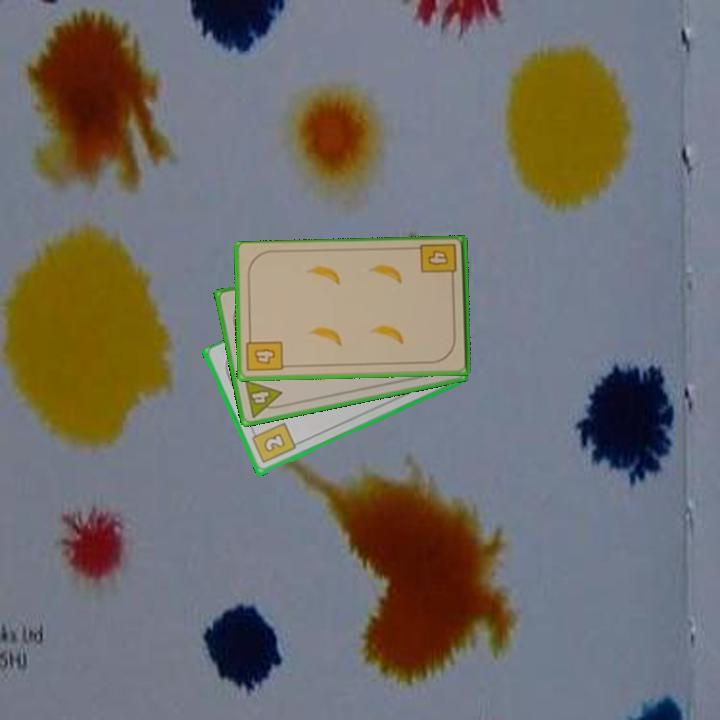2b: (247, 419, 298, 466)
4b: (417, 240, 460, 285), (243, 332, 286, 374)
4p: (241, 376, 287, 420)
